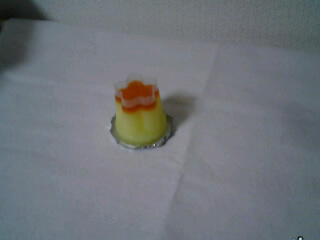001_classes: (104, 78, 192, 159)
